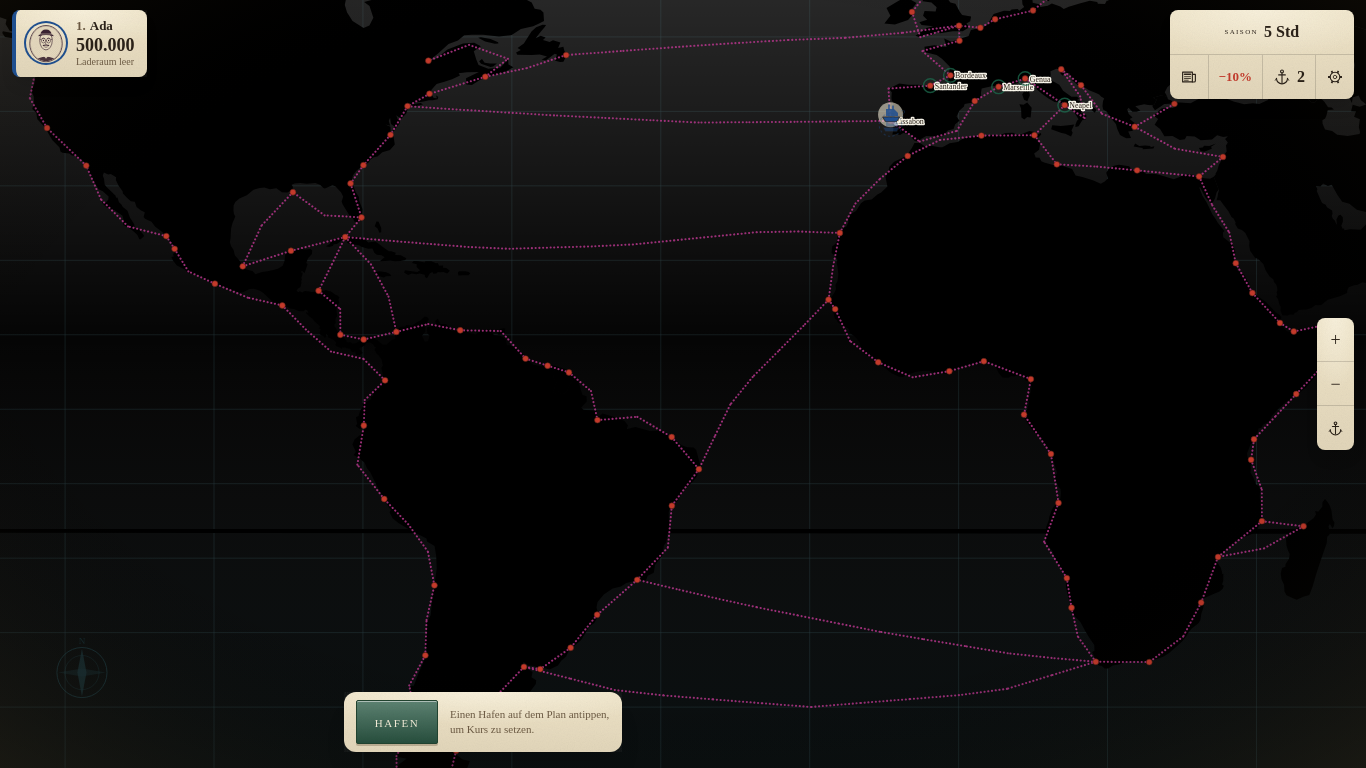
Test: Sicht realistisch in the interface › draws a distant ship as a belief and offers a pigeon
Note: The fleet register says so in as many words, and offers a bird.
Click the button named "Flotte:". click: (1290, 77)
box: 1263,55 -> 1316,99
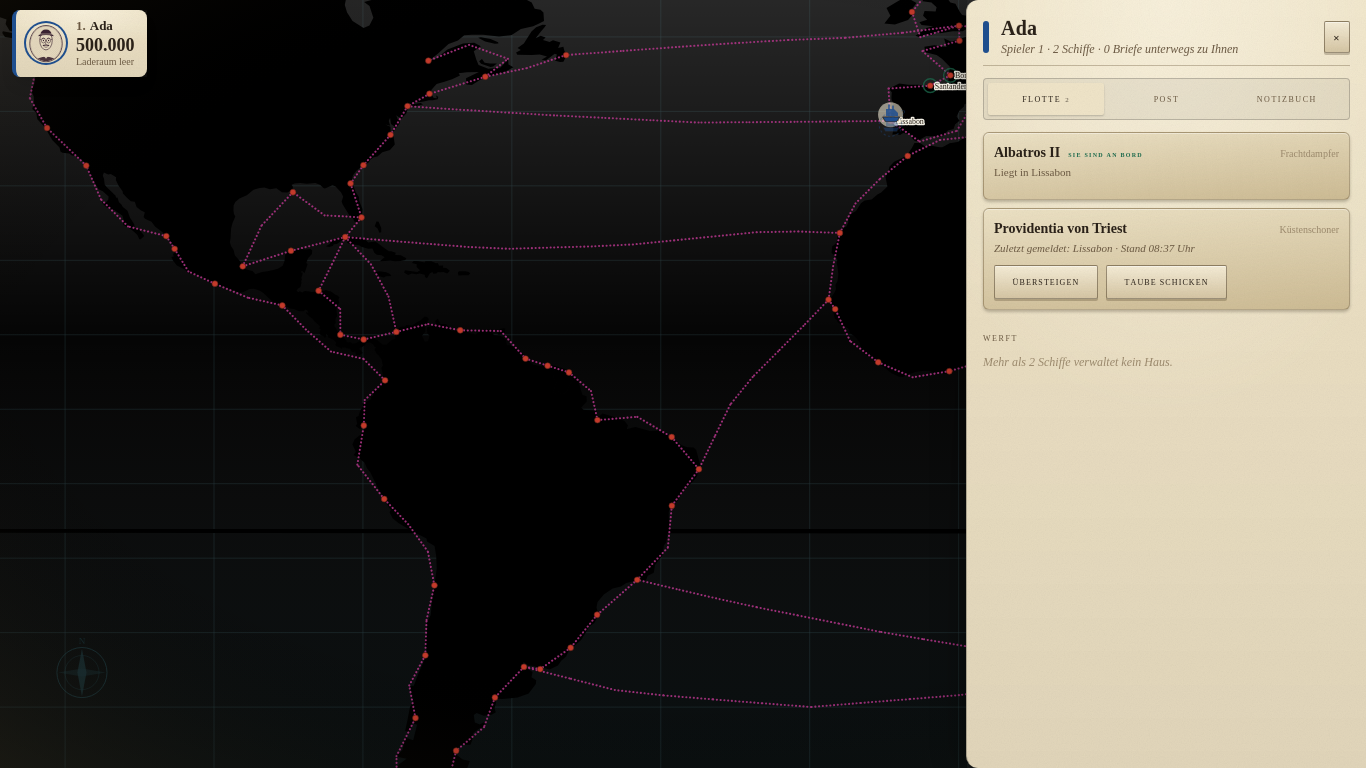
Now the text "Zuletzt gemeldet: Lissabon · Stand 08:37 Uhr" is shown, box 994,242 -> 1195,254
Now the button "Taube schicken" is shown
Click the button "Taube schicken". click: (1167, 282)
box: 1106,265 -> 1227,299
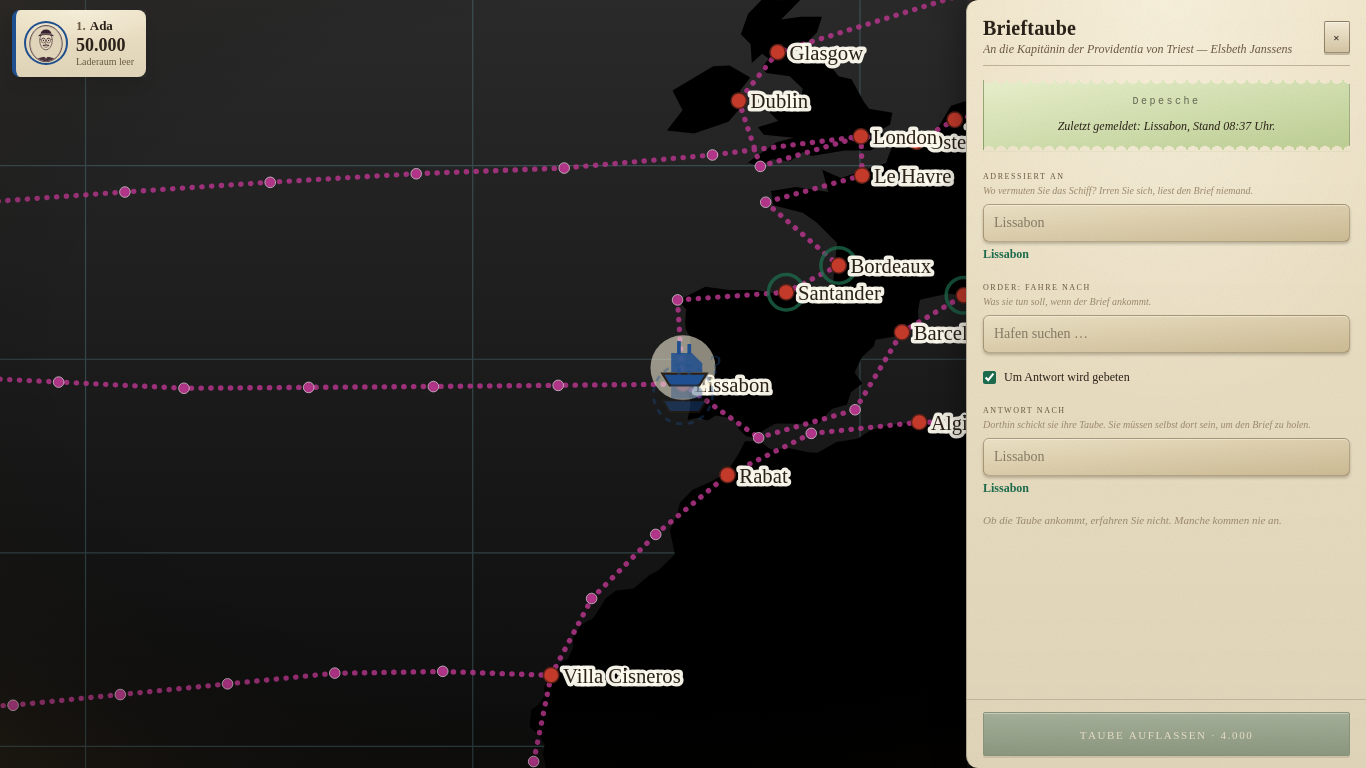
Now the heading "Brieftaube" is shown, box 983,17 -> 1076,39
Now the field named "Adressiert an" is shown, box 983,204 -> 1350,242
Now the text "Ob die Taube ankommt, erfahren Sie nicht" is shown, box 983,514 -> 1282,526
